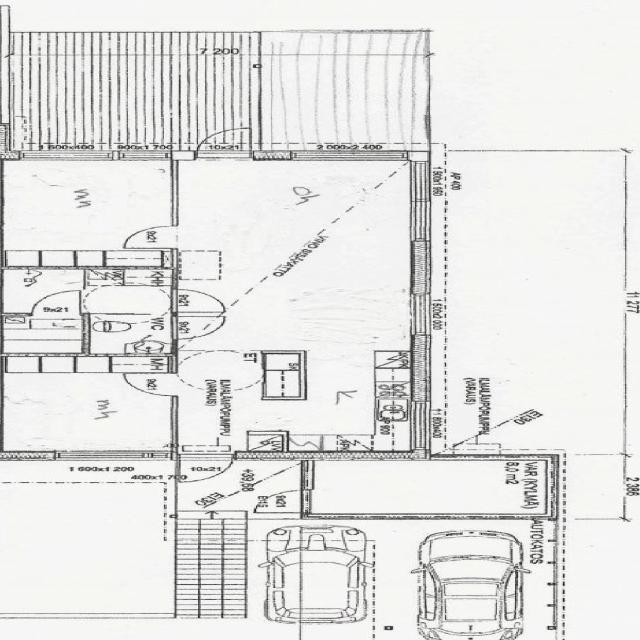door: (198, 127, 250, 160), (179, 451, 231, 484), (252, 490, 314, 512), (32, 291, 81, 316), (172, 316, 226, 338), (172, 290, 226, 312), (123, 226, 177, 248), (124, 374, 177, 395)
